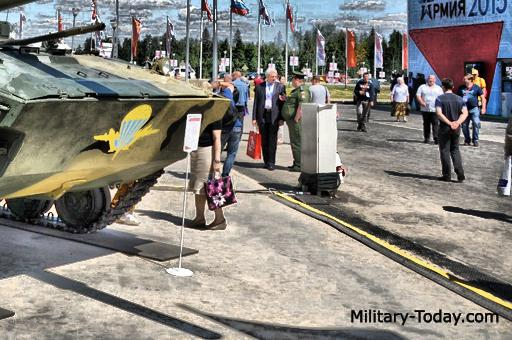tanks: (1, 27, 225, 235), (1, 1, 35, 11)
